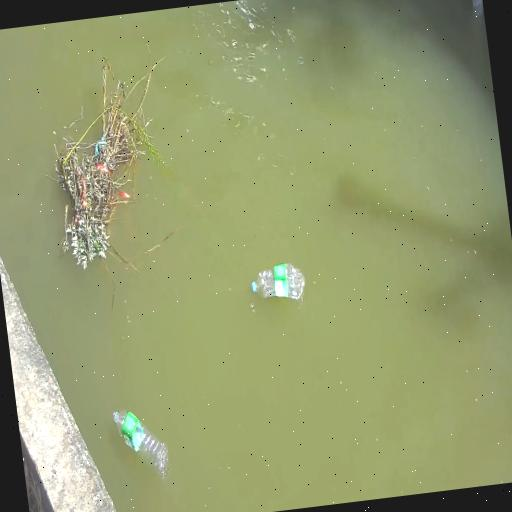plastic: (112, 411, 167, 477), (251, 263, 304, 300), (251, 282, 256, 292)
twig: (56, 58, 161, 268)
